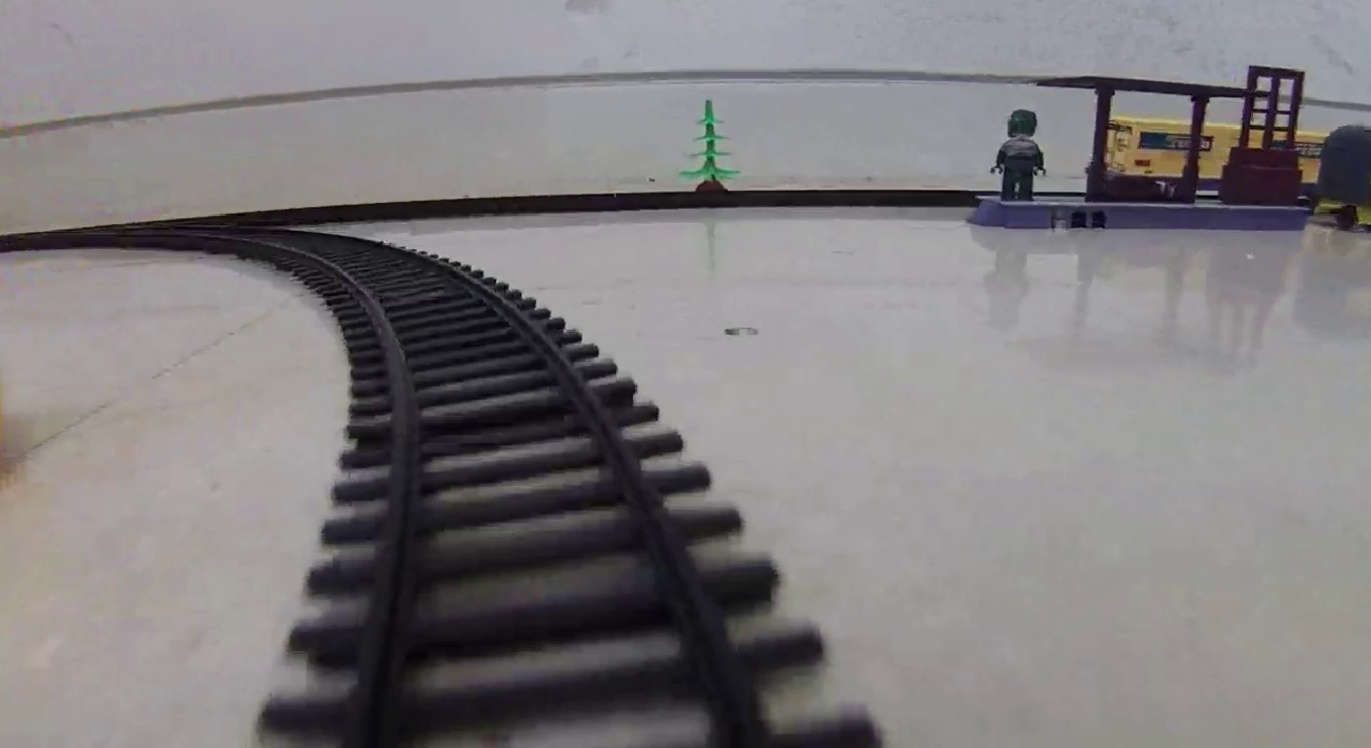people: (990, 107, 1049, 203)
tree: (681, 99, 742, 192)
